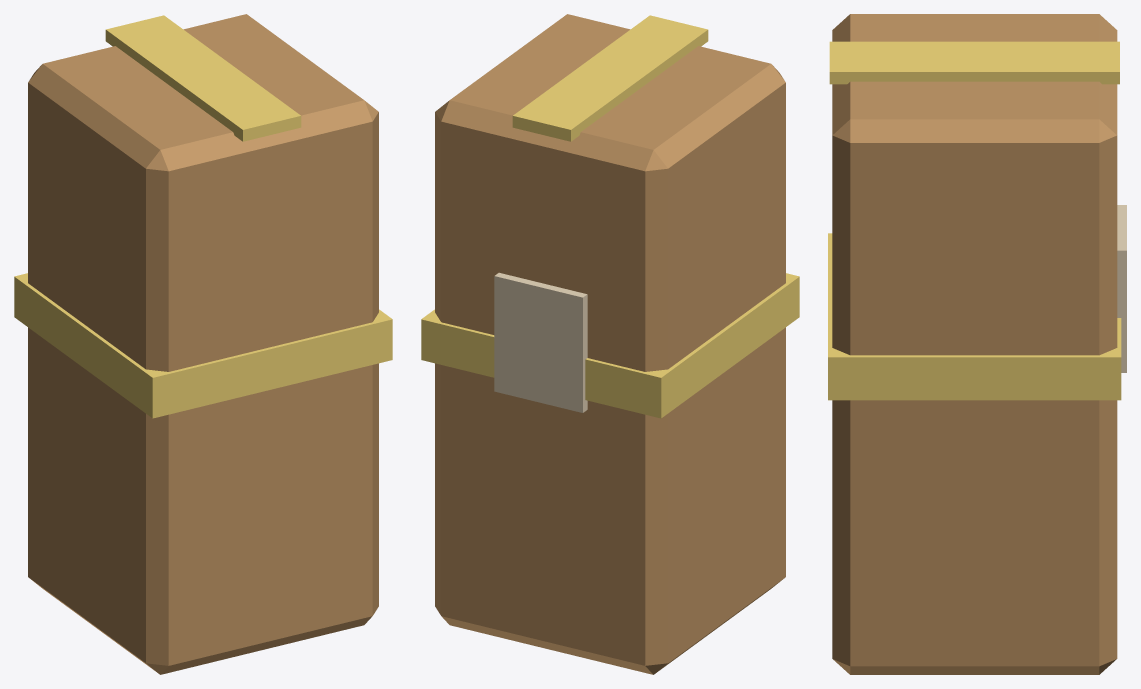
Rendered from sm_cargo_package_balance.glb.
3 views of the same model, side by side, from view 1: azimuth 30°, elevation 25°; view 2: azimuth 150°, elevation 25°; view 3: azimuth 270°, elevation 25° (orthographic). The views are drawn at different scales.
Parts seen in each view (by area): view 1: CargoBox, BalanceBand, PackingTape; view 2: CargoBox, BalanceBand, ShippingLabel, PackingTape; view 3: CargoBox, BalanceBand, PackingTape, ShippingLabel.
Boxes of the visible parts, x1=… form: CargoBox: x1=28, y1=14, x2=378, y2=674; BalanceBand: x1=14, y1=273, x2=392, y2=418; PackingTape: x1=105, y1=15, x2=301, y2=141; CargoBox: x1=435, y1=14, x2=785, y2=674; BalanceBand: x1=421, y1=273, x2=799, y2=418; ShippingLabel: x1=494, y1=272, x2=587, y2=412; PackingTape: x1=512, y1=15, x2=708, y2=141; CargoBox: x1=832, y1=14, x2=1117, y2=674; BalanceBand: x1=828, y1=233, x2=1121, y2=400; PackingTape: x1=829, y1=41, x2=1119, y2=84; ShippingLabel: x1=1117, y1=205, x2=1126, y2=372.
Size of the model in its own units: 0.7416 by 1.58 by 0.7553.
